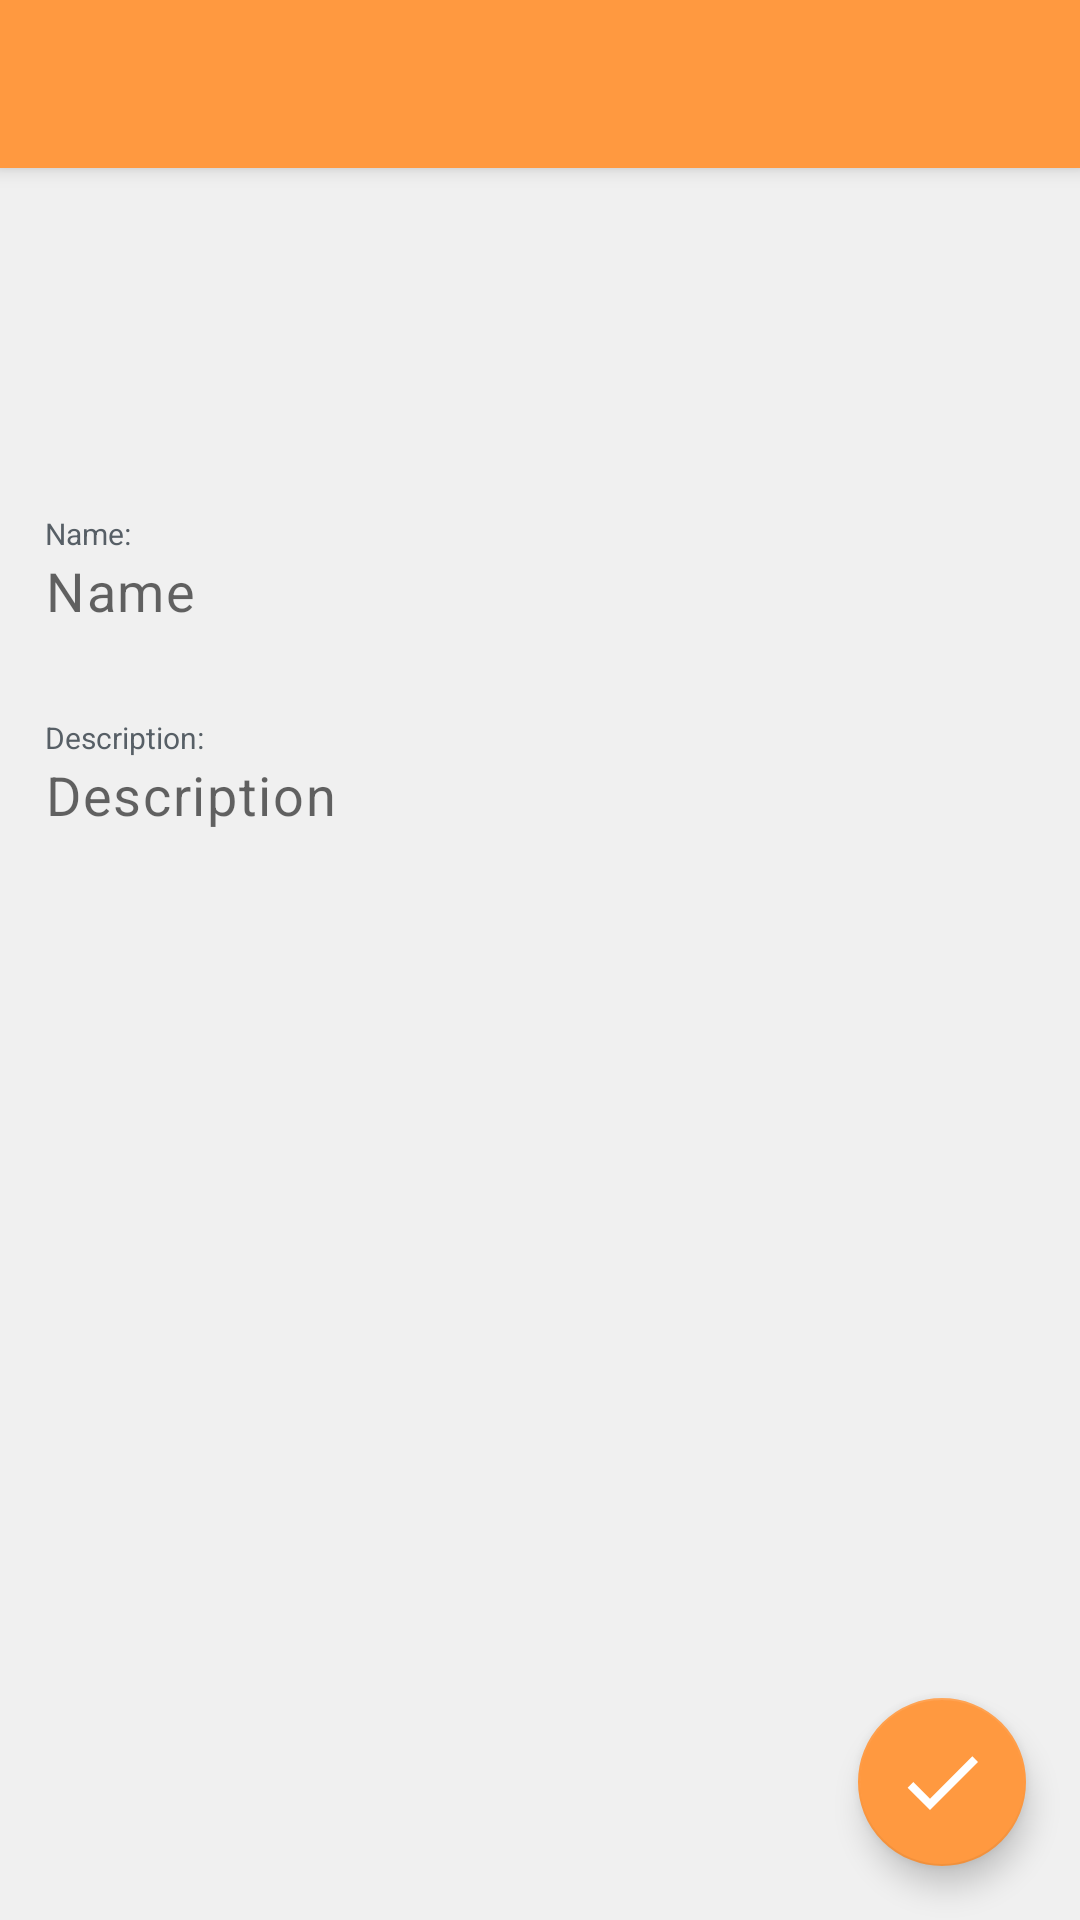

Locate icon controls on the screen. Image size 1080px×1920px, boxes as {"x1": x1, "y1": y1, "x2": x2, "y2": y2}.
check: {"x1": 858, "y1": 1698, "x2": 1026, "y2": 1866}
